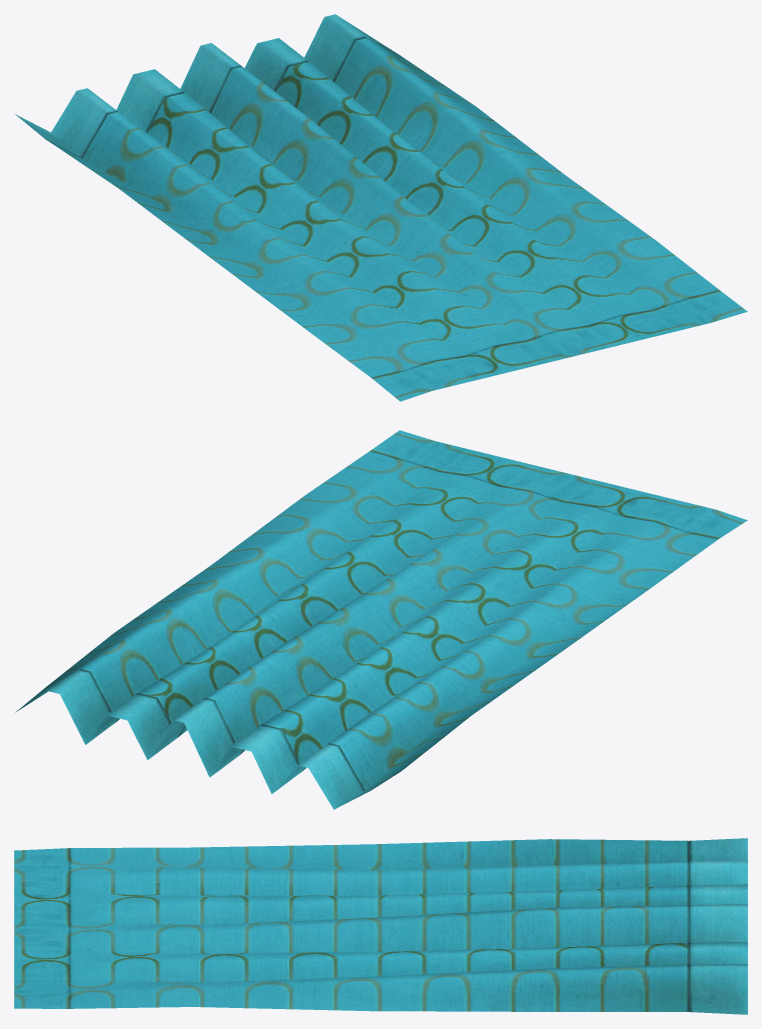
File: nt_2020_curtains_short_02_LOD0.obj
3 renders of one model, top to bottom at view 1: azimuth 30°, elevation 25°; view 2: azimuth 150°, elevation 25°; view 3: azimuth 270°, elevation 25°, orthographic. The views are drawn at different scales.
Visible parts, largest first — view 1: mtl_nt_2020_curtains_02; view 2: mtl_nt_2020_curtains_02; view 3: mtl_nt_2020_curtains_02.
Boxes of the visible parts, x1,y1,x2,y2 form: mtl_nt_2020_curtains_02: [15, 14, 747, 401]; mtl_nt_2020_curtains_02: [15, 430, 747, 809]; mtl_nt_2020_curtains_02: [14, 838, 747, 1014].
Bounding box in the file's own units: 171 × 24.63 × 315.
